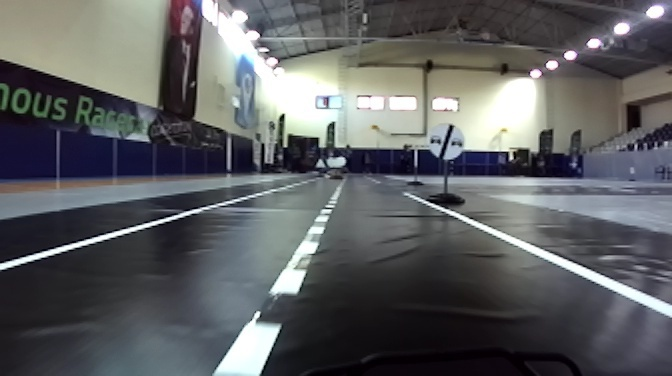sollama_serbest: (426, 123, 465, 161)
